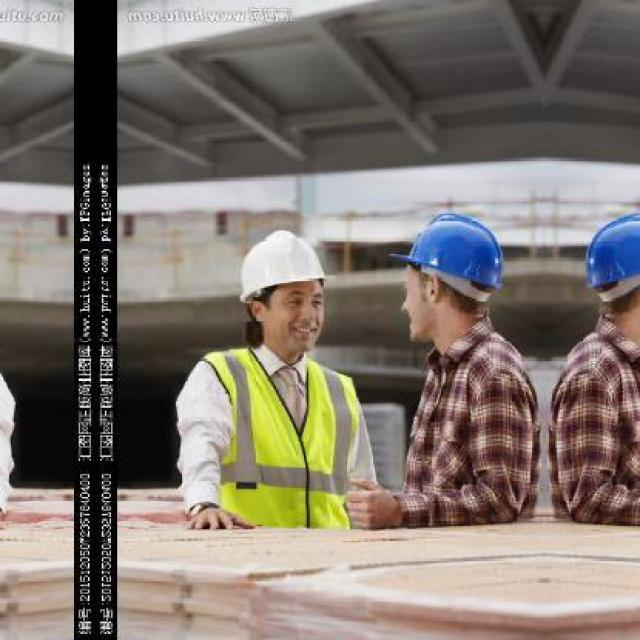Reflective-Jacket: (188, 341, 373, 534)
Safety-Helmet: (389, 206, 515, 303), (227, 223, 339, 311), (572, 203, 640, 306)
